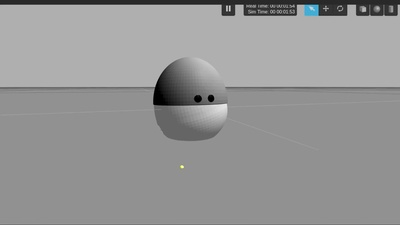mira_robot: (153, 57, 229, 141)
